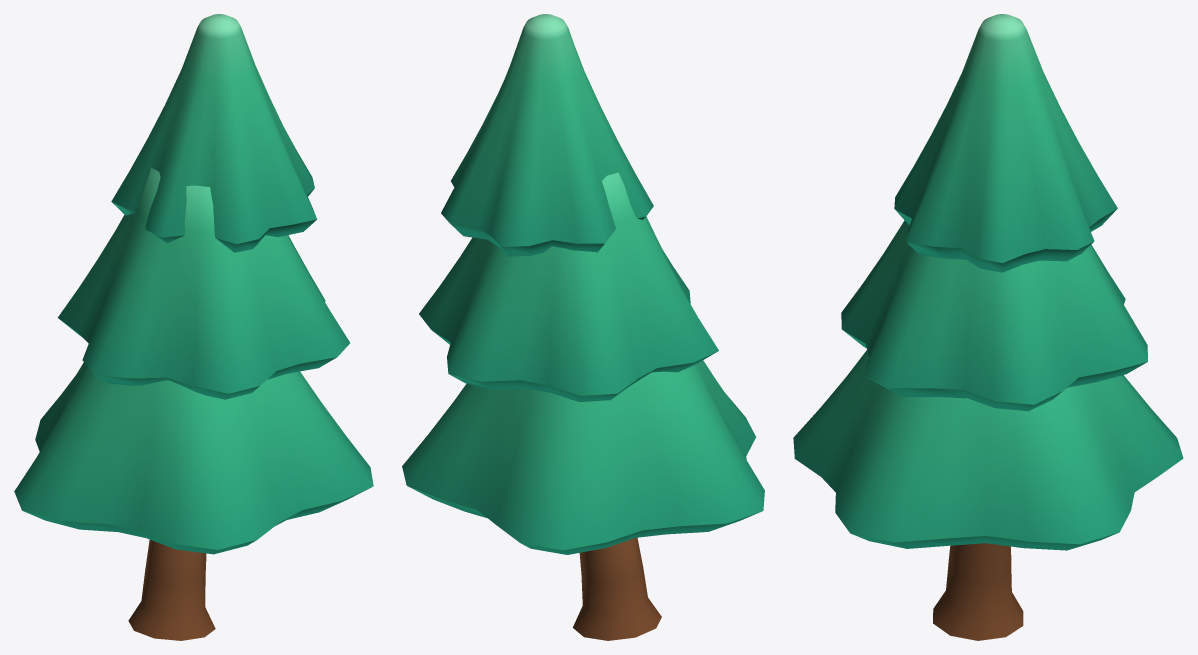
Rendered from pine_lean.glb.
3 views of the same model, side by side, from view 1: azimuth 30°, elevation 25°; view 2: azimuth 150°, elevation 25°; view 3: azimuth 270°, elevation 25° (orthographic). The views are drawn at different scales.
Visible parts, largest first — view 1: pine_lean; view 2: pine_lean; view 3: pine_lean.
Part boxes in pixels (x1,y1,x2,y2): pine_lean: (14,14,373,640); pine_lean: (402,14,764,640); pine_lean: (793,14,1183,640).
Bounding box in the file's own units: 12.87 × 22.97 × 12.83.
Materials: 1 (1 with a texture image).
